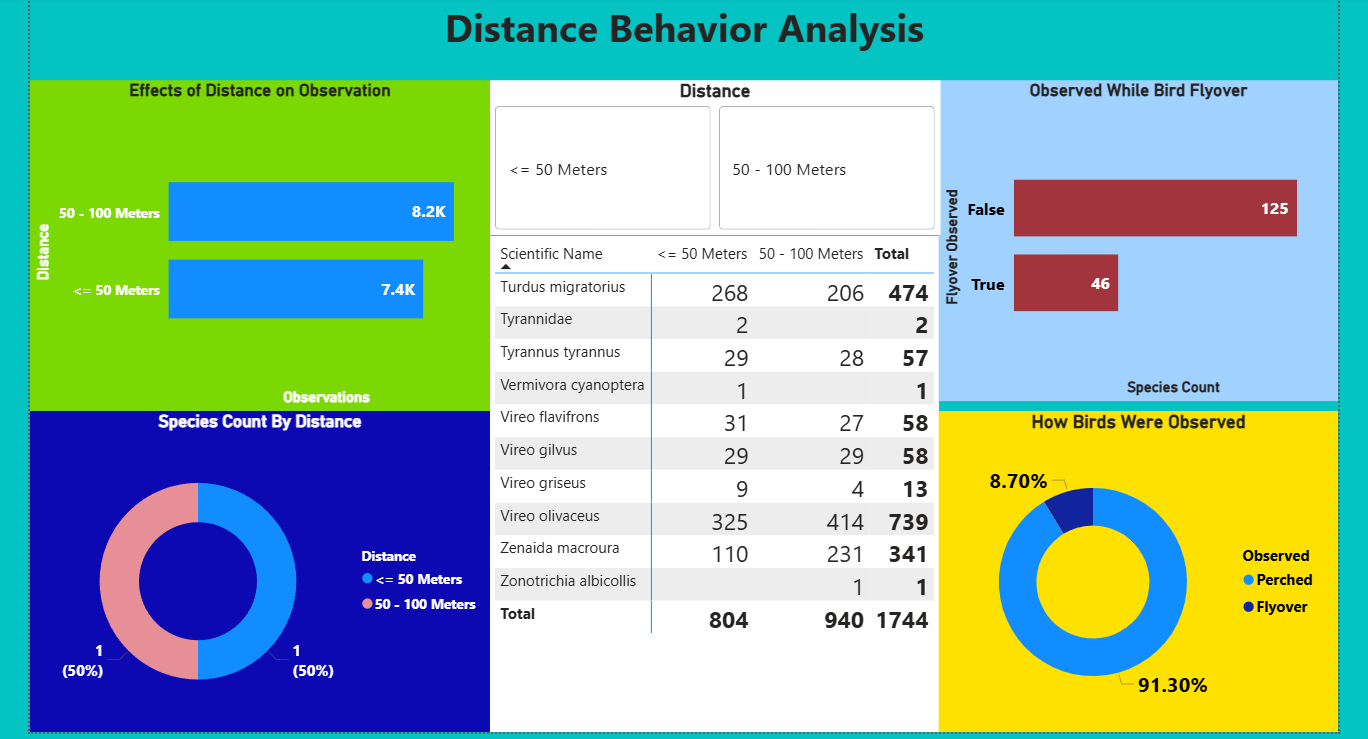

The page's visual inventory and layout, read from the dashboard file:
{"tool":"powerbi","page":{"name":"Distance Behavior Analysis","canvas":[1280,720],"ordinal":4},"visuals":[{"type":"clusteredBarChart","title":"Effects of Distance on Observation","fields":{"Category":["overall_distance_distribution.distance"],"Y":["Sum(overall_distance_distribution.observations)"]},"box":[0,82.3,450.1,323.8],"z":0},{"type":"donutChart","title":"Species Count By Distance","fields":{"Category":["distance_species.distance"],"Y":["CountNonNull(distance_species.species_count)"]},"box":[0,406.2,450.1,314.2],"z":1000},{"type":"pivotTable","fields":{"Rows":["species_at_distances.scientific_name"],"Columns":["species_at_distances.distance"],"Values":["Sum(species_at_distances.observations)"]},"box":[450.1,234.6,439.1,485.8],"z":2000},{"type":"donutChart","title":"How Birds Were Observed","fields":{"Category":["overhead_vs_perched_percentage.bird_observed"],"Y":["Sum(overhead_vs_perched_percentage.observations)"]},"box":[889.2,406.2,391.1,314.2],"z":3000},{"type":"barChart","title":"Observed While Bird Flyover","fields":{"Category":["flyover_species_diversity.flyover_observed"],"Y":["Sum(flyover_species_diversity.species_count)"]},"box":[889.2,82.3,391.1,314.2],"z":4000},{"type":"advancedSlicerVisual","title":"Distance","fields":{"Values":["species_at_distances.distance"]},"box":[450.1,82.3,440.5,152.3],"z":5000},{"type":"textbox","box":[0,0,1280.3,82.3],"z":6000}]}

Visuals, with their boxes on the page's 1280x720 design canvas (x1, y1, x2, y2). These are canvas units, not pixel positions in the 1368x739 screenshot, which may show the page scaled, cropped or inside an application window:
"Effects of Distance on Observation" clusteredBarChart: bbox=[0, 82, 450, 406]
"Species Count By Distance" donutChart: bbox=[0, 406, 450, 720]
pivotTable - species_at_distances.scientific_name x species_at_distances.distance: bbox=[450, 235, 889, 720]
"How Birds Were Observed" donutChart: bbox=[889, 406, 1280, 720]
"Observed While Bird Flyover" barChart: bbox=[889, 82, 1280, 396]
"Distance" advancedSlicerVisual: bbox=[450, 82, 891, 235]
textbox: bbox=[0, 0, 1280, 82]
